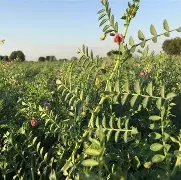crops: (0, 1, 179, 178), (2, 124, 51, 178), (97, 0, 140, 42), (2, 59, 67, 86), (60, 54, 99, 93), (133, 47, 178, 80), (0, 86, 28, 127), (79, 43, 93, 59)
